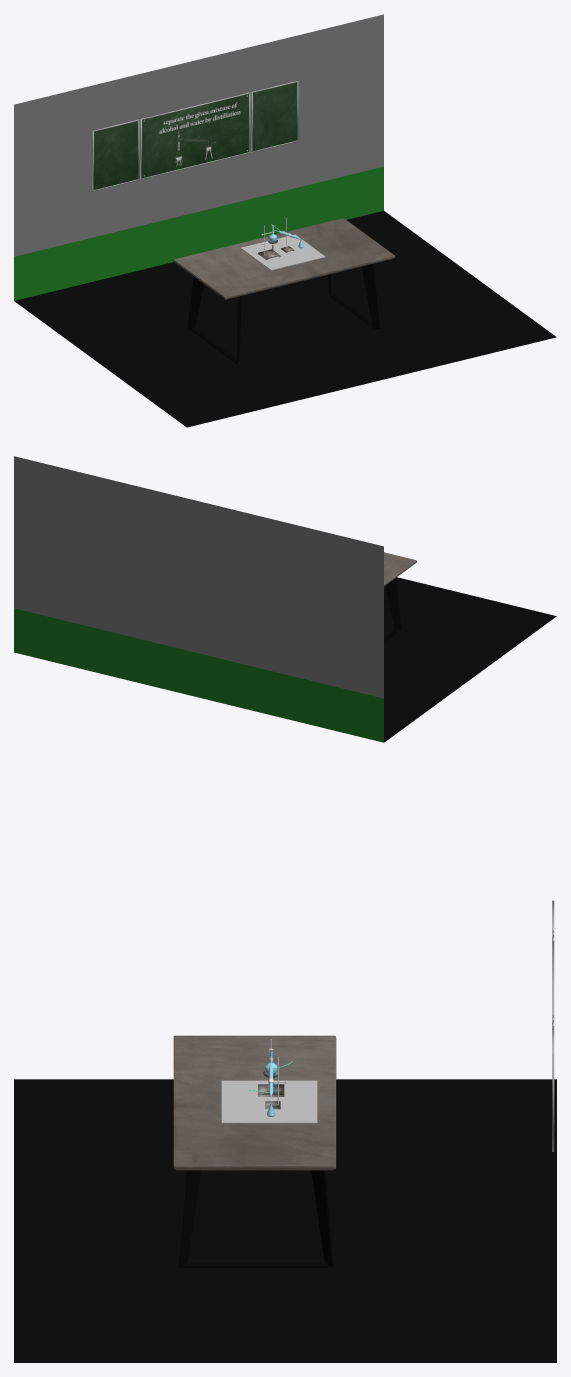
The model's file is exp base.fbx.
The picture shows the model from 3 angles, top to bottom: view 1: azimuth 30°, elevation 25°; view 2: azimuth 150°, elevation 25°; view 3: azimuth 270°, elevation 25°; orthographic projection. The views are drawn at different scales.
Parts seen in each view (by area): view 1: Plane001, Box002, _Table, Box001; view 2: Plane001, _Table; view 3: Plane001, _Table, Box001, Box002.
Part boxes in pixels (x1=…): Plane001: x1=14, y1=14, x2=556, y2=427; Box002: x1=92, y1=80, x2=298, y2=191; _Table: x1=173, y1=218, x2=395, y2=363; Box001: x1=241, y1=234, x2=325, y2=270; Plane001: x1=14, y1=456, x2=556, y2=742; _Table: x1=384, y1=552, x2=416, y2=642; Plane001: x1=14, y1=1079, x2=556, y2=1362; _Table: x1=173, y1=1035, x2=336, y2=1267; Box001: x1=221, y1=1080, x2=317, y2=1123; Box002: x1=552, y1=900, x2=554, y2=1151.
Size of the model in its own units: 162 by 82.4 by 132.
